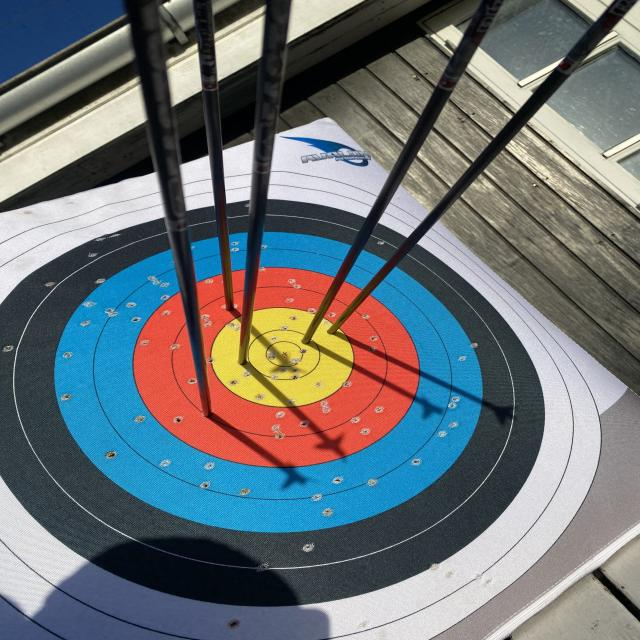Arrow_Red: (182, 386, 230, 432), (210, 283, 248, 318)
Arrow_Yellow: (313, 307, 360, 349), (216, 338, 263, 379), (279, 319, 327, 355)
